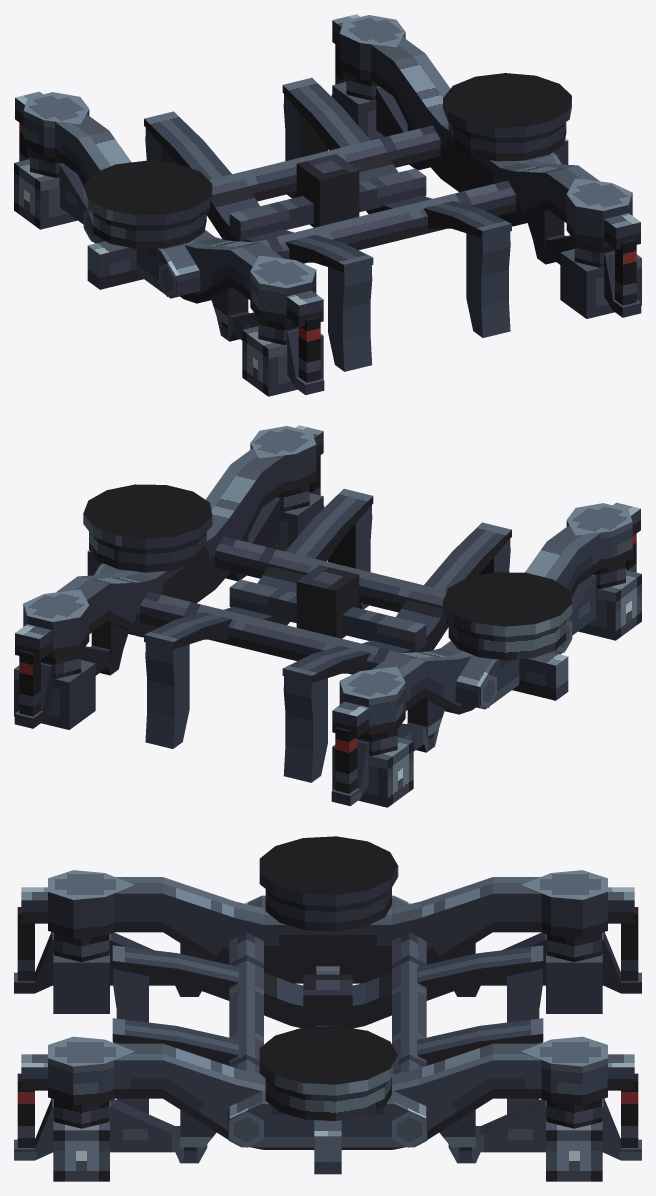
File: sw220k_frame.obj
3 views of the same model, one above another, from view 1: azimuth 30°, elevation 25°; view 2: azimuth 150°, elevation 25°; view 3: azimuth 270°, elevation 25° (orthographic). The views are drawn at different scales.
Parts seen in each view (by area): view 1: 构架; view 2: 构架; view 3: 构架.
Part boxes in pixels (<box>): 构架: <box>14,14,641,396</box>; 构架: <box>14,425,641,807</box>; 构架: <box>14,836,641,1181</box>.
Bounding box in the file's own units: 2.98 × 0.8125 × 3.19.
